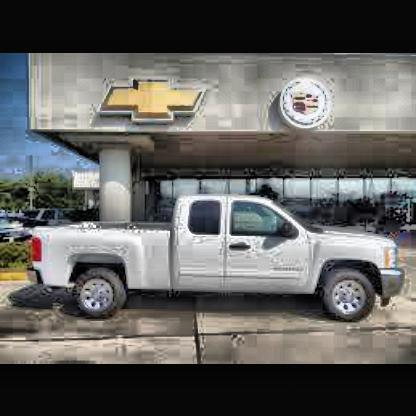Chevrolet Silverado 1500 Extended Cab 2012: (30, 196, 407, 322)
